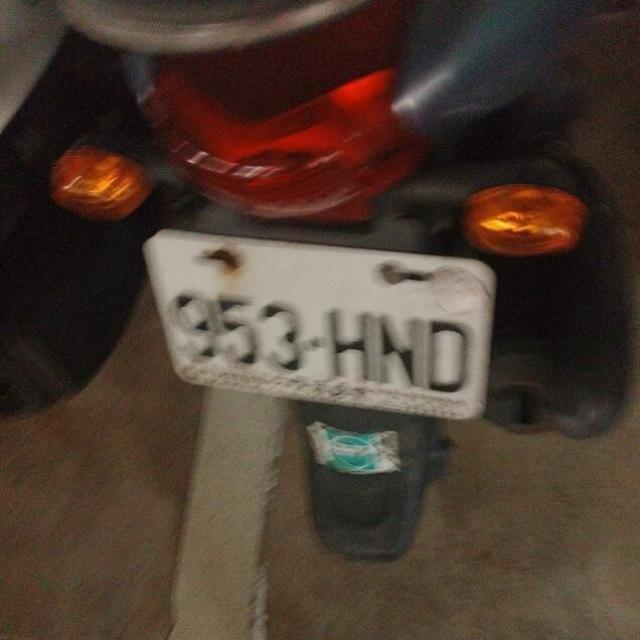W: (135, 200, 512, 442)
